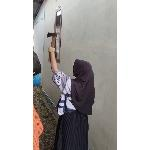Kapak: (46, 31, 58, 65)
